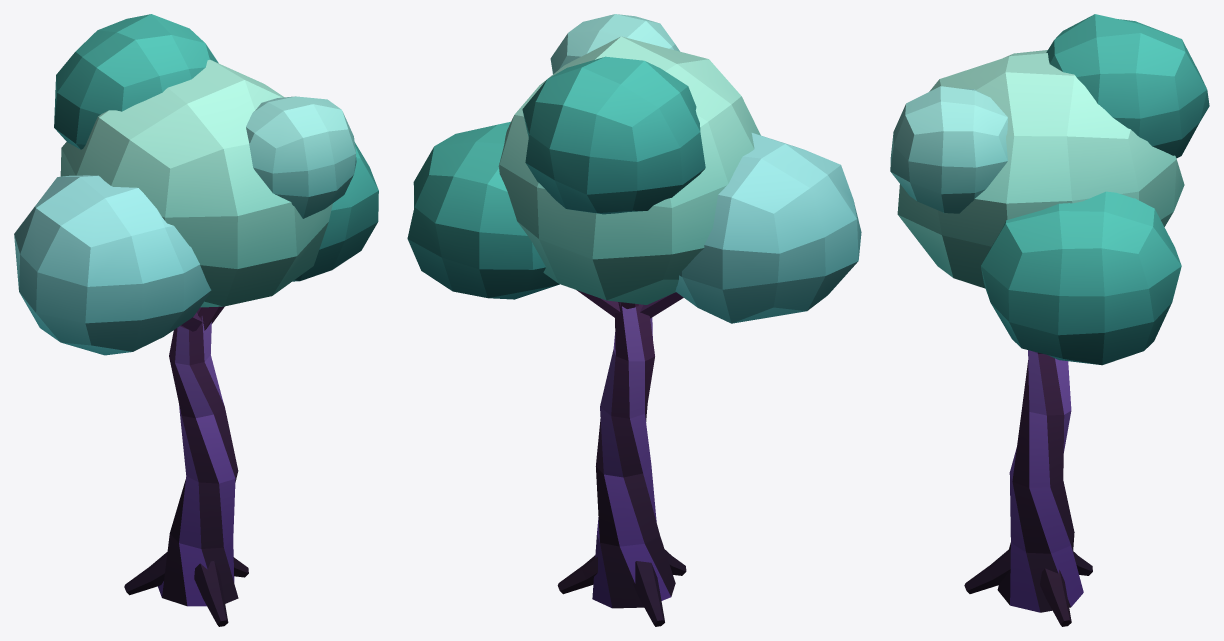
File: PlayGround_Kit_Tree_Jelly_B.fbx
3 views of the same model, side by side, from view 1: azimuth 30°, elevation 25°; view 2: azimuth 150°, elevation 25°; view 3: azimuth 270°, elevation 25° (orthographic). The views are drawn at different scales.
Visible parts, largest first — view 1: PlayGround_Kit_Tree_Jelly_B; view 2: PlayGround_Kit_Tree_Jelly_B; view 3: PlayGround_Kit_Tree_Jelly_B.
Part boxes in pixels (box(x1,y1,x2,y2)): PlayGround_Kit_Tree_Jelly_B: box(14, 14, 378, 626); PlayGround_Kit_Tree_Jelly_B: box(407, 14, 861, 626); PlayGround_Kit_Tree_Jelly_B: box(890, 14, 1209, 626).
Size of the model in its own units: 4.34 by 6.07 by 3.1.
